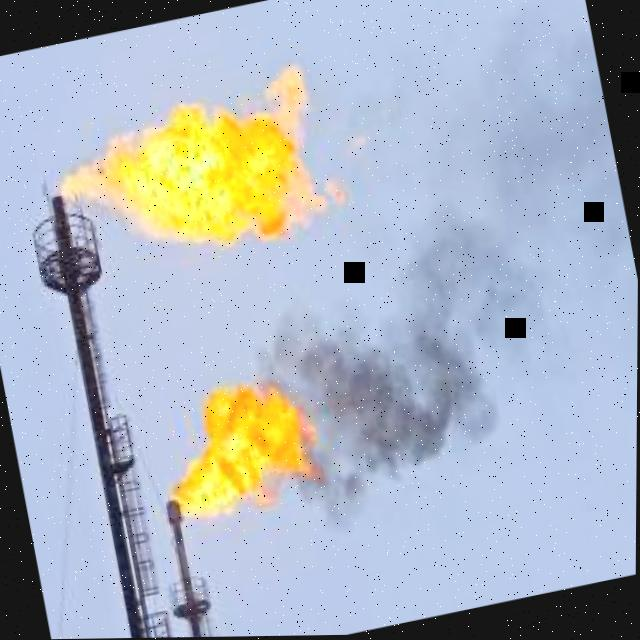fire: (59, 67, 312, 250)
smoke: (256, 0, 631, 543)
